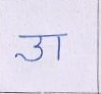aa_matra: (57, 37, 61, 61)
